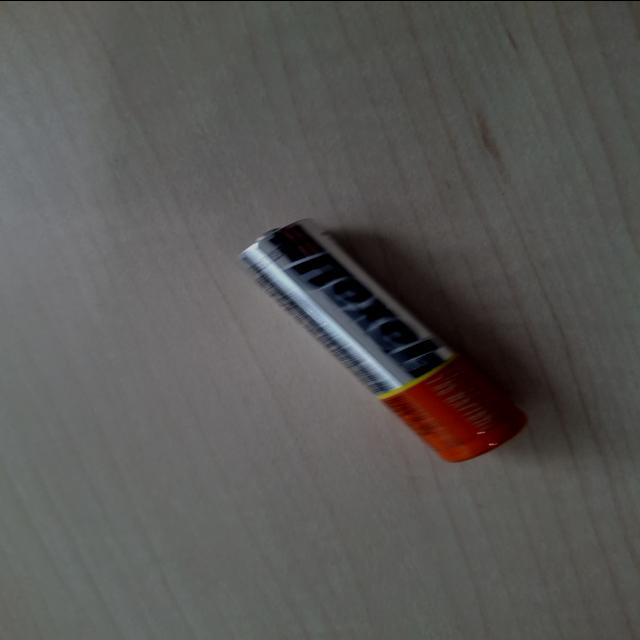AA: (294, 249, 610, 462)
